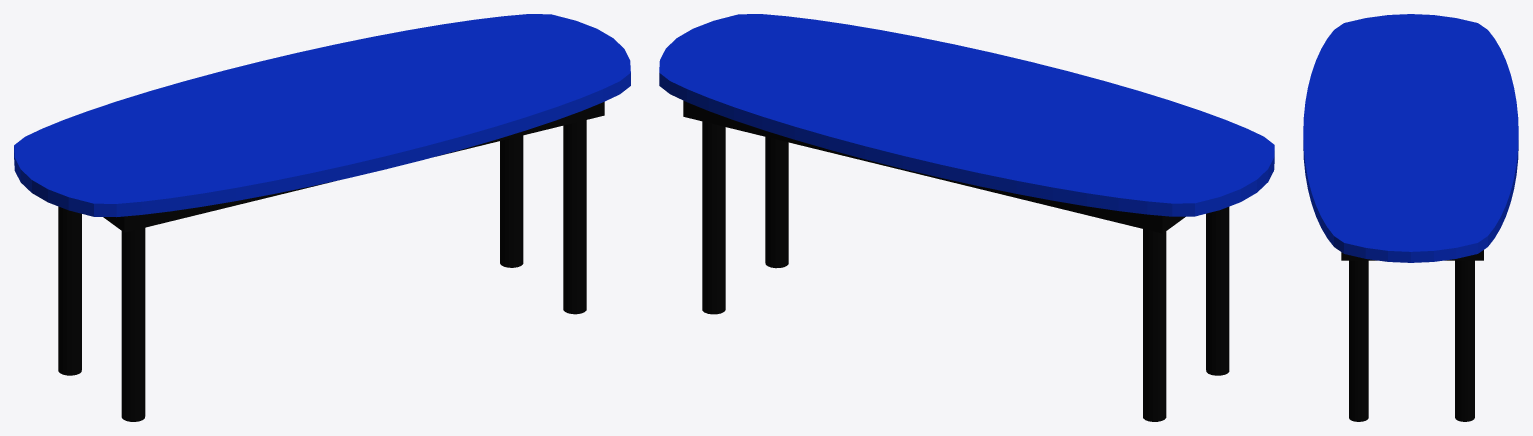
File: bench.obj
The picture shows the model from 3 angles, left to right: view 1: azimuth 30°, elevation 25°; view 2: azimuth 150°, elevation 25°; view 3: azimuth 270°, elevation 25°; orthographic projection. The views are drawn at different scales.
Visible parts, largest first — view 1: Bench_Bench_Counters, Bench_Bench_Black_paint; view 2: Bench_Bench_Counters, Bench_Bench_Black_paint; view 3: Bench_Bench_Counters, Bench_Bench_Black_paint.
Part boxes in pixels (x1,y1,x2,y2): Bench_Bench_Counters: (14, 14, 630, 217); Bench_Bench_Black_paint: (58, 102, 604, 421); Bench_Bench_Counters: (659, 14, 1274, 216); Bench_Bench_Black_paint: (683, 100, 1229, 421); Bench_Bench_Counters: (1303, 14, 1518, 262); Bench_Bench_Black_paint: (1341, 250, 1483, 421).
Size of the model in its own units: 7.97 by 3.03 by 3.05.
